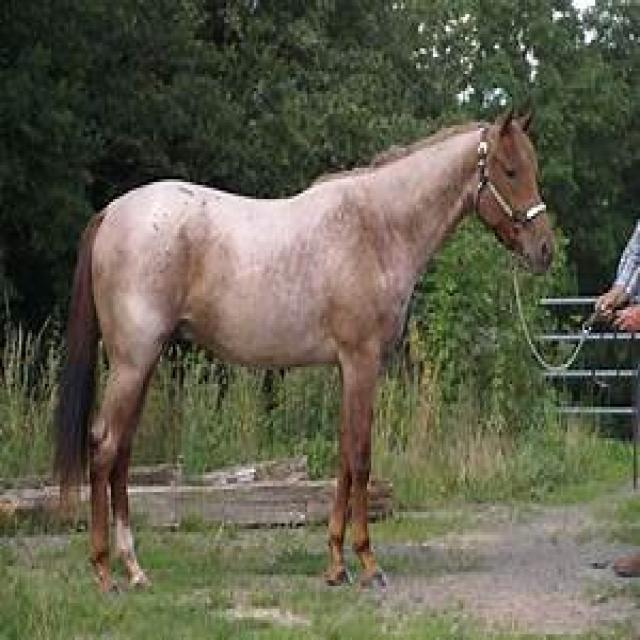horse: (53, 114, 555, 592)
